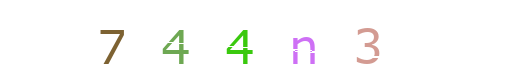3: (279, 0, 359, 80)
4: (200, 0, 280, 80), (218, 0, 298, 80)
7: (110, 0, 190, 80)
N: (263, 0, 343, 80)
